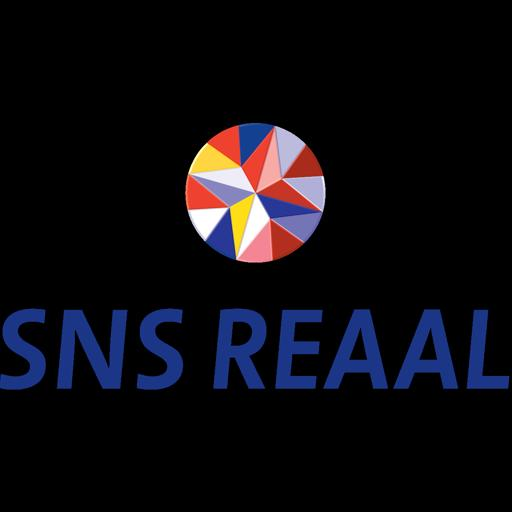SNS Bank N-V: (0, 121, 512, 390)
